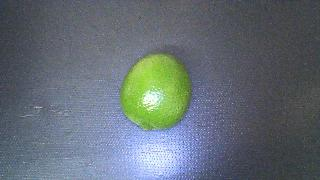EXPORTACION: (120, 53, 191, 130)
